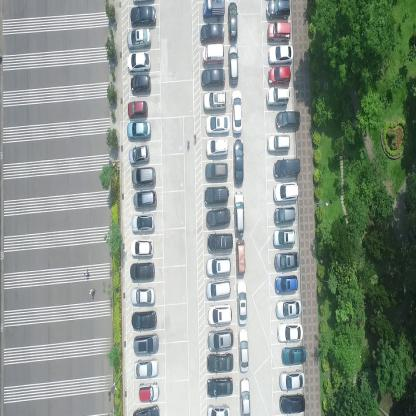car: (268, 18, 292, 44), (126, 28, 152, 52), (130, 6, 158, 28), (208, 328, 234, 351), (272, 182, 299, 204), (274, 110, 301, 132), (133, 334, 160, 356), (205, 376, 234, 396), (126, 51, 151, 74), (206, 279, 232, 301), (129, 260, 155, 282), (130, 285, 156, 307), (206, 231, 233, 252), (273, 158, 301, 178), (266, 45, 294, 65), (206, 352, 234, 372), (266, 85, 290, 108), (231, 88, 243, 134), (232, 138, 244, 184), (236, 280, 248, 326), (206, 256, 231, 278), (207, 304, 232, 326), (265, 0, 291, 21), (237, 328, 249, 373), (131, 310, 158, 330), (274, 299, 302, 318), (201, 44, 225, 66), (206, 113, 230, 135), (131, 212, 155, 234), (238, 375, 251, 415), (200, 68, 226, 88), (133, 358, 159, 378), (278, 394, 305, 413), (132, 167, 156, 188), (133, 189, 157, 210), (281, 346, 307, 365), (277, 322, 303, 341), (204, 184, 230, 203), (126, 120, 152, 139), (278, 370, 305, 388), (274, 252, 301, 270), (233, 190, 244, 234), (205, 160, 228, 181), (267, 134, 291, 154), (267, 65, 291, 85), (130, 238, 154, 258), (138, 382, 162, 402), (204, 209, 232, 226), (272, 206, 297, 225), (199, 23, 224, 42), (228, 45, 239, 88), (129, 144, 150, 166), (202, 0, 226, 19), (205, 138, 229, 157), (227, 1, 238, 42), (273, 274, 298, 292), (204, 90, 226, 110), (130, 74, 152, 94), (272, 228, 295, 247), (235, 238, 246, 276), (127, 100, 148, 117), (206, 402, 231, 415), (131, 404, 160, 415)
